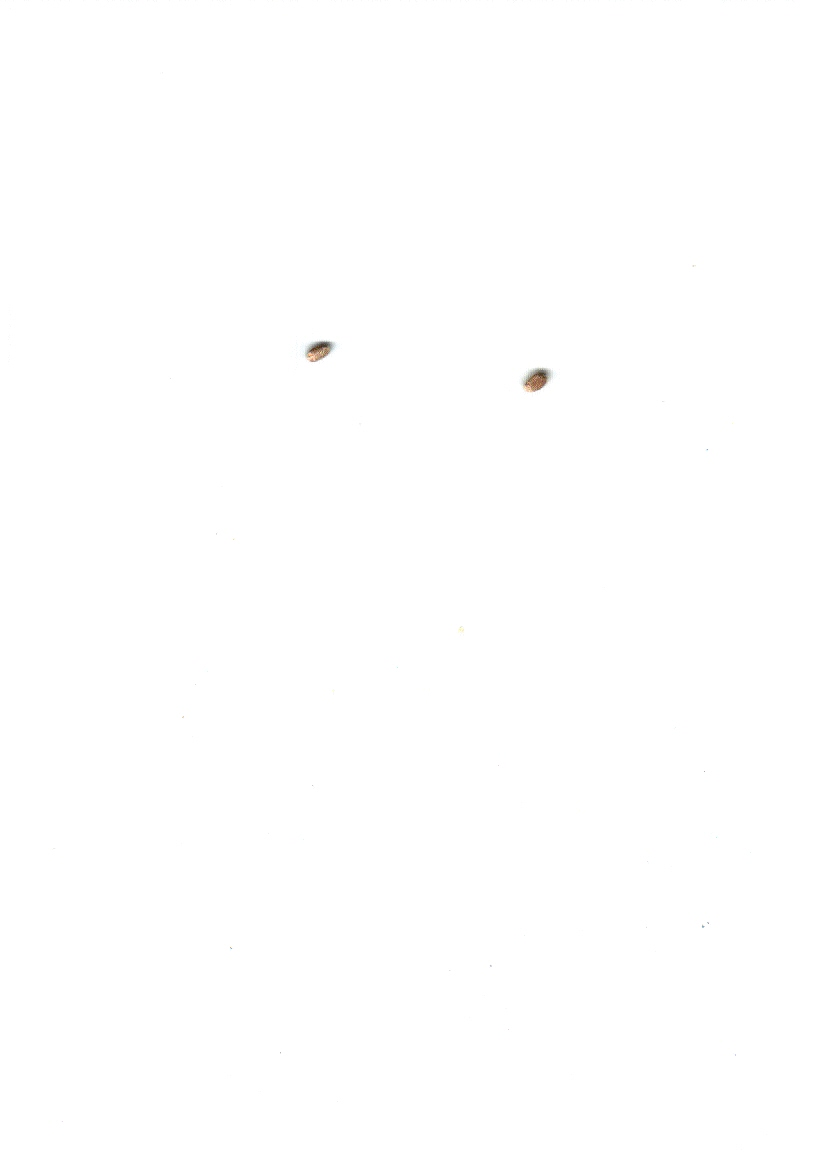grains: (290, 325, 349, 380), (510, 351, 566, 407)
